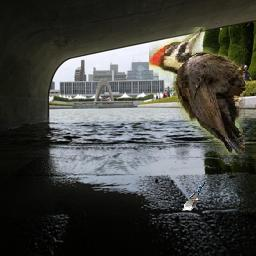Cuckoo: (181, 181, 205, 211)
Woodpecker: (149, 27, 245, 155)
